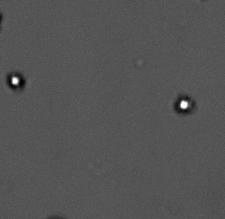Living Cell: (174, 95, 194, 113), (6, 72, 24, 91)
